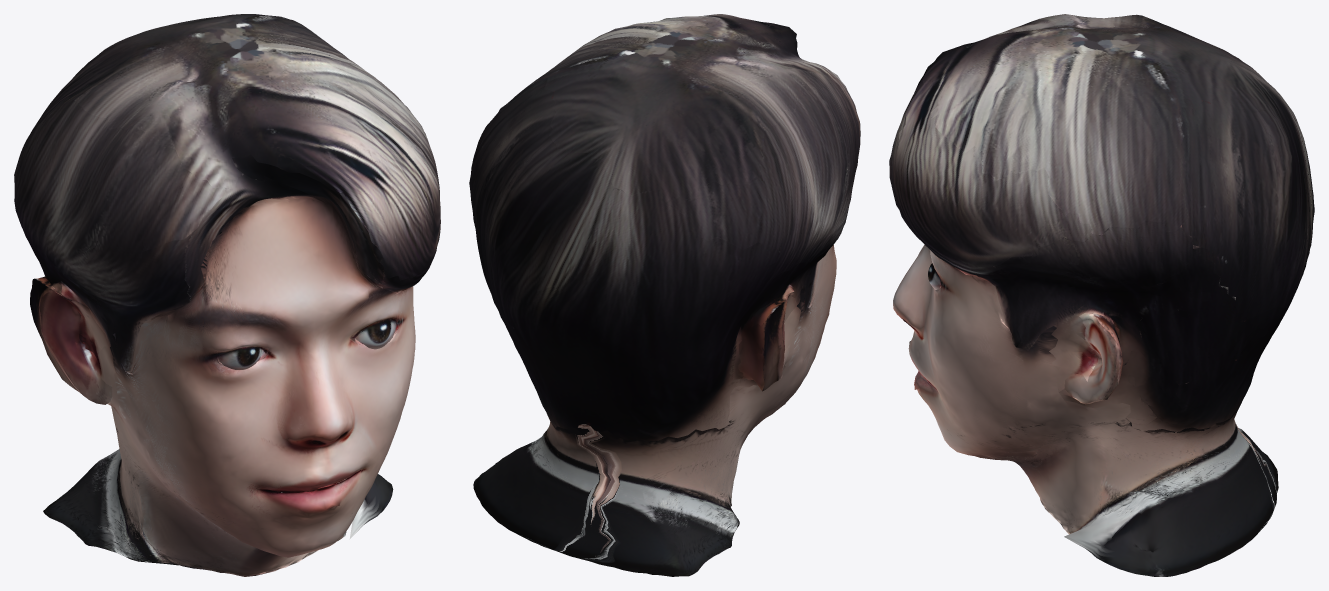
The model's file is docent-qka2.glb.
3 views of the same model, side by side, from view 1: azimuth 30°, elevation 25°; view 2: azimuth 150°, elevation 25°; view 3: azimuth 270°, elevation 25° (orthographic). The views are drawn at different scales.
Parts seen in each view (by area): view 1: DocentHead; view 2: DocentHead; view 3: DocentHead.
Part boxes in pixels (x1,y1,x2,y2): DocentHead: (14, 14, 440, 576); DocentHead: (469, 14, 860, 576); DocentHead: (889, 14, 1314, 576).
Size of the model in its own units: 0.1946 by 0.263 by 0.222.
1 material, 1 textured.
